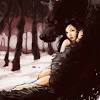Lobo: (37, 1, 63, 40)
